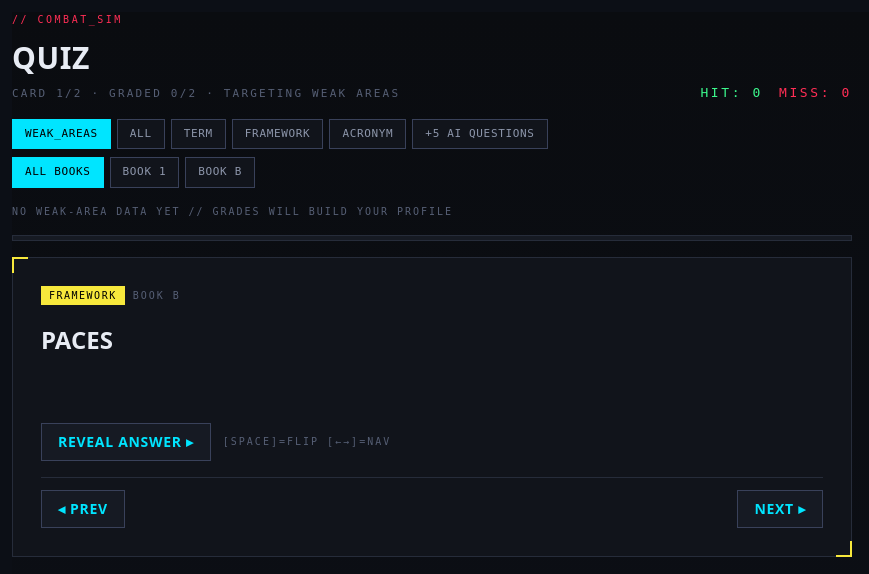
book pills filter the deck to one book
Expected: the text "PACES" is shown, [41, 322, 113, 356]
Click the button "Book 1". click: (144, 172)
box: [110, 157, 179, 188]
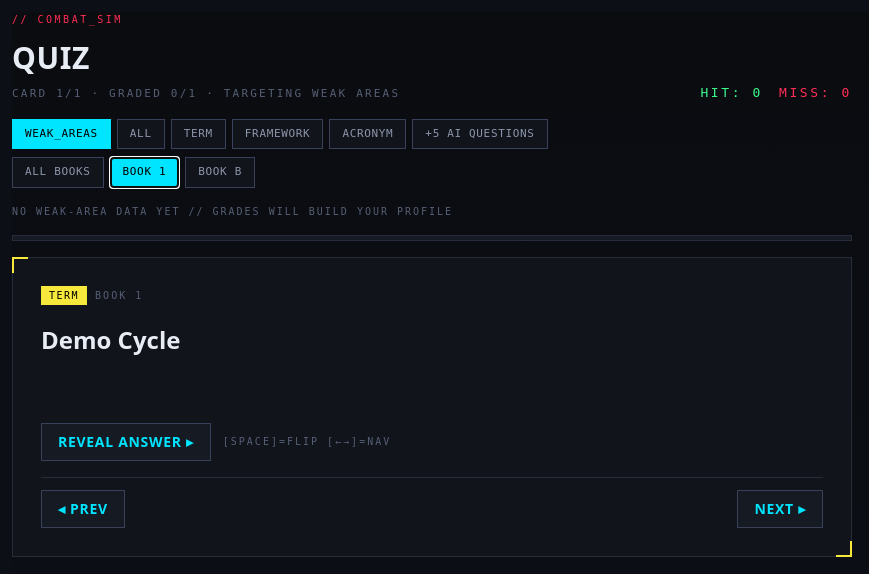
Expected: the text "Demo Cycle" is shown, [41, 322, 180, 356]
Expected: the text "PACES" is gone
Expected: the text "CARD 1/1 · GRADED 0/1 · TARGETING WEAK AREAS" is shown, [12, 86, 400, 102]
Click the button "all books". click: (58, 172)
box: [12, 157, 104, 188]
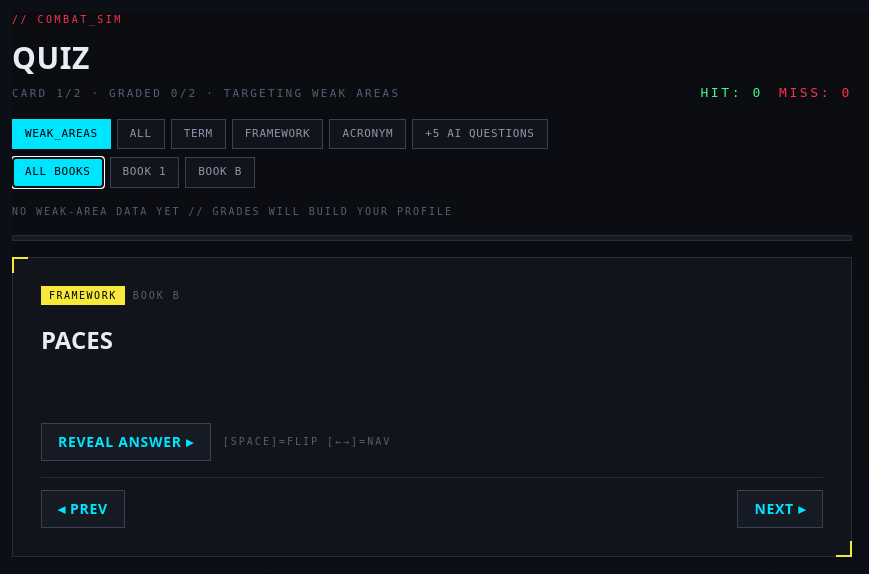
Expected: the text "CARD 1/2 · GRADED 0/2 · TARGETING WEAK AREAS" is shown, [12, 86, 400, 102]
